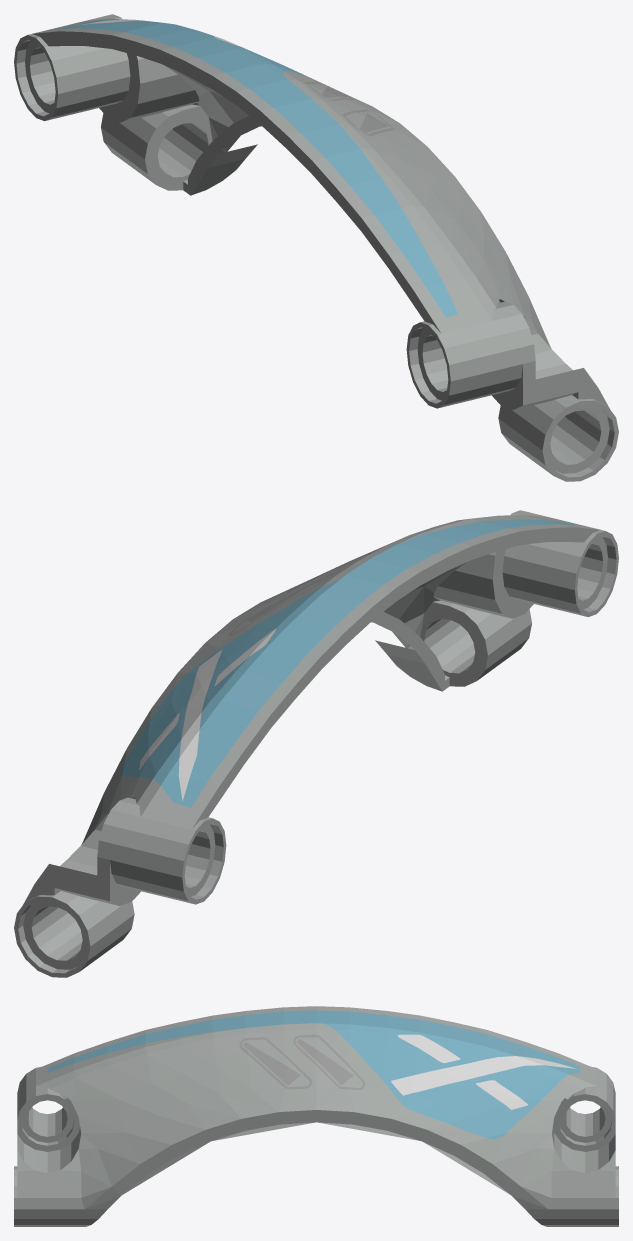
The picture shows the model from 3 angles, top to bottom: view 1: azimuth 30°, elevation 25°; view 2: azimuth 150°, elevation 25°; view 3: azimuth 270°, elevation 25°; orthographic projection. The views are drawn at different scales.
Parts seen in each view (by area): view 1: world; view 2: world; view 3: world.
Part boxes in pixels (x1=…): world: x1=14, y1=14, x2=618, y2=481; world: x1=14, y1=510, x2=618, y2=977; world: x1=14, y1=1006, x2=618, y2=1226.
Bounding box in the file's own units: 0.0158 × 0.0232 × 0.072.
